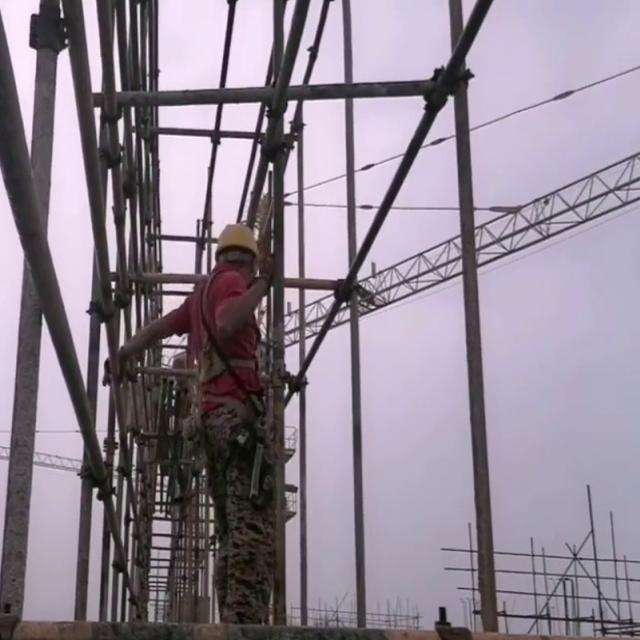Arnes_seguridad: (186, 272, 266, 397)
